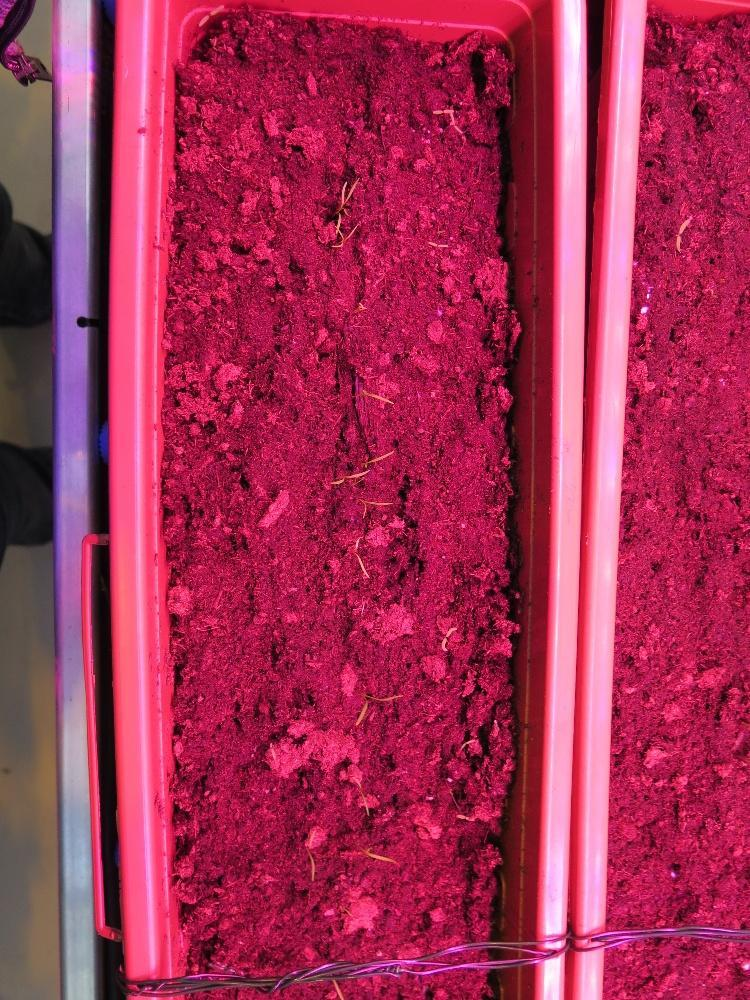weed: (675, 214, 690, 254), (439, 623, 457, 653), (425, 237, 448, 249)
